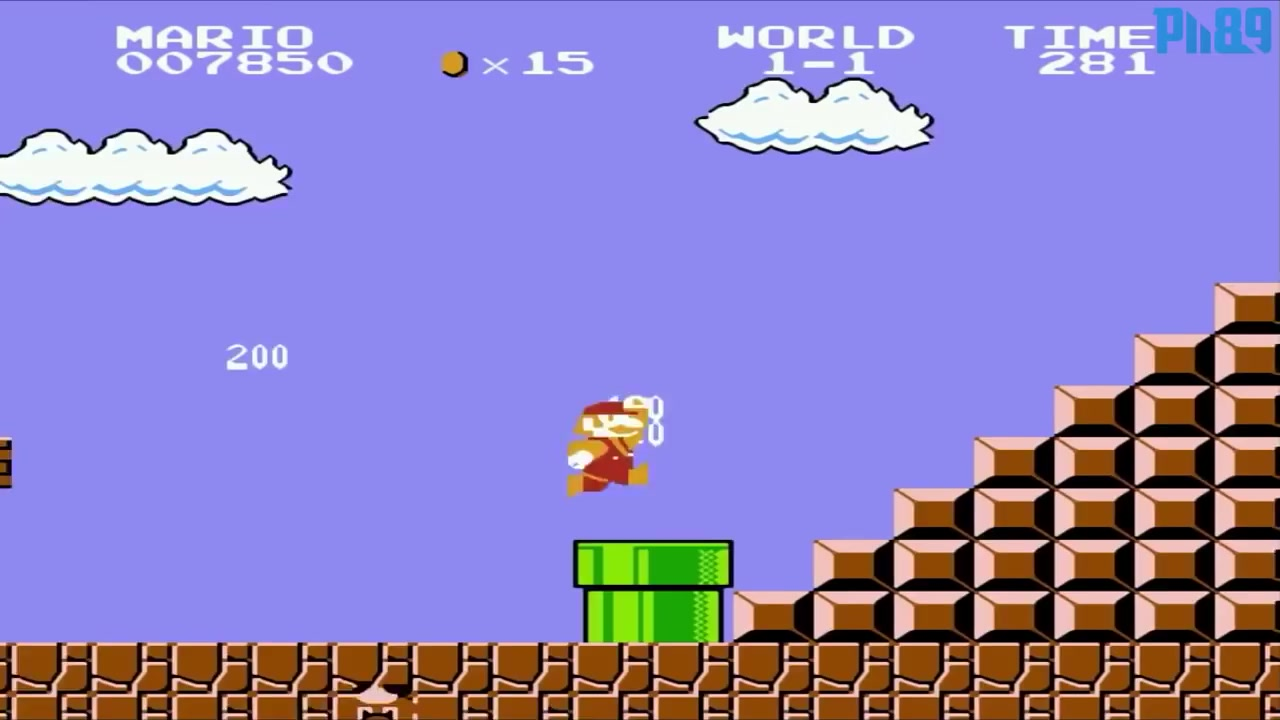mario: (551, 382, 672, 514)
